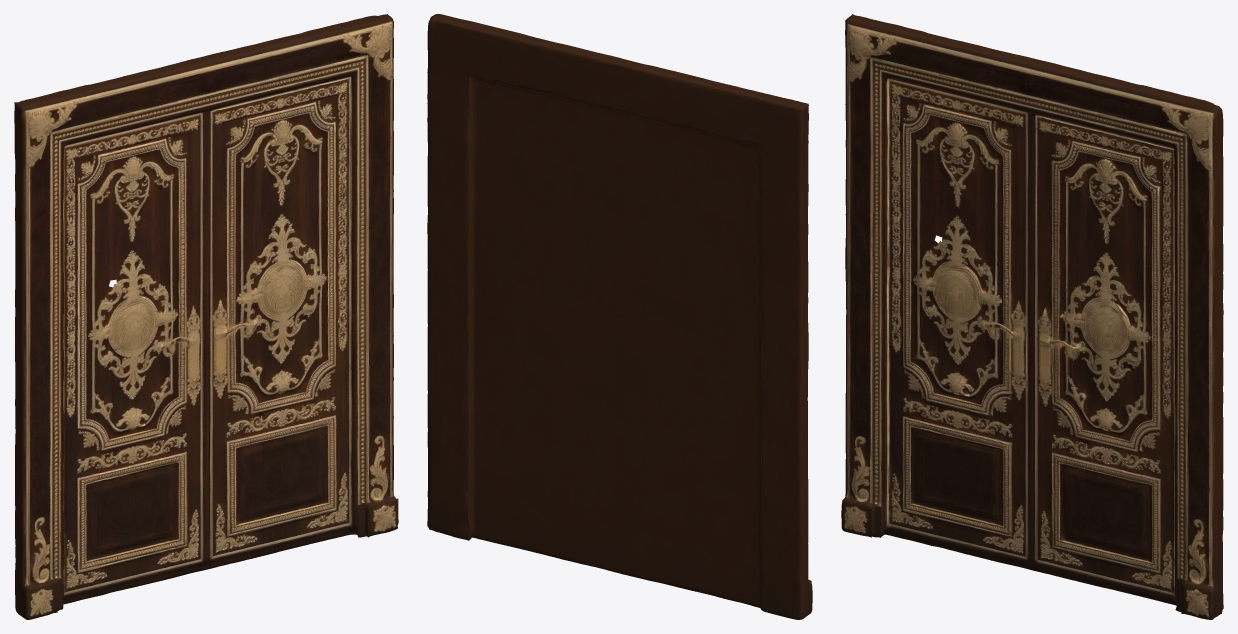
The model's file is ornate-corridor-doors.glb.
3 renders of one model, left to right at view 1: azimuth 30°, elevation 25°; view 2: azimuth 150°, elevation 25°; view 3: azimuth 330°, elevation 25°, orthographic.
Visible parts, largest first — view 1: DoorRight, DoorLeft, FrameLeft, FrameRight, FrameTop, FrameBottom; view 2: DoorRight, DoorLeft, FrameLeft, FrameRight, FrameTop, FrameBottom; view 3: DoorLeft, DoorRight, FrameRight, FrameLeft, FrameTop, FrameBottom.
Part boxes in pixels (left/top/right/bottom): DoorRight: left=206, top=71, right=355, bottom=561; DoorLeft: left=61, top=106, right=208, bottom=597; FrameLeft: left=14, top=93, right=63, bottom=619; FrameRight: left=348, top=14, right=398, bottom=537; FrameTop: left=54, top=21, right=357, bottom=142; FrameBottom: left=63, top=527, right=355, bottom=604; DoorRight: left=466, top=71, right=617, bottom=563; DoorLeft: left=614, top=107, right=762, bottom=601; FrameLeft: left=762, top=94, right=812, bottom=619; FrameRight: left=427, top=14, right=473, bottom=539; FrameTop: left=466, top=22, right=768, bottom=142; FrameBottom: left=466, top=528, right=762, bottom=610; DoorLeft: left=881, top=73, right=1031, bottom=561; DoorRight: left=1029, top=108, right=1176, bottom=598; FrameRight: left=1174, top=95, right=1223, bottom=619; FrameLeft: left=841, top=14, right=890, bottom=537; FrameTop: left=881, top=23, right=1183, bottom=144; FrameBottom: left=882, top=527, right=1176, bottom=605.
Size of the model in its own units: 4.06 by 5.31 by 0.2492.
Materials: 1 (1 with a texture image).
